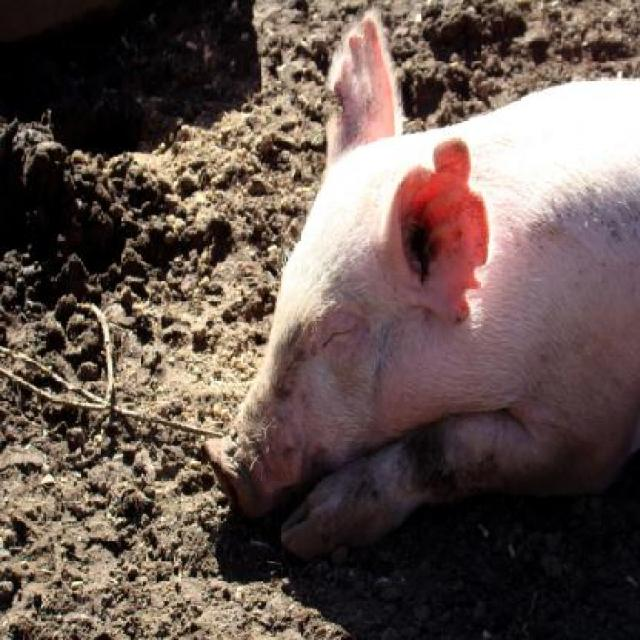pig: (202, 12, 639, 558)
